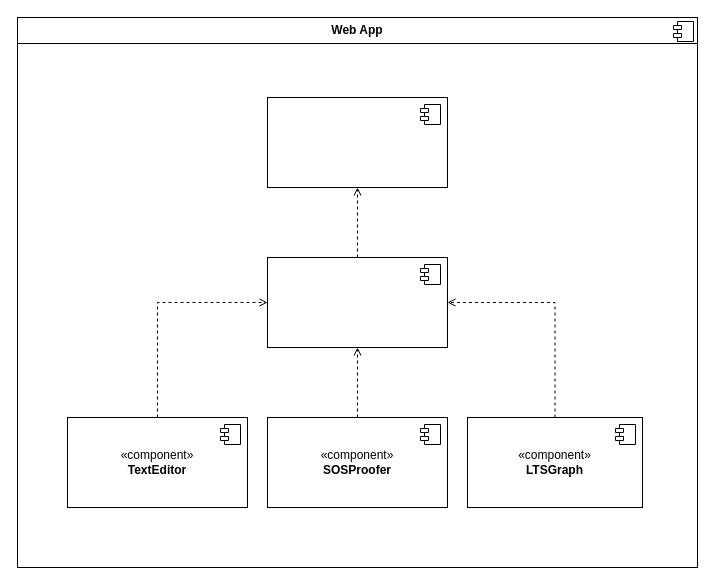
The diagram is 715 pixels wide and 585 high, and some of its shapes have lost their labels. The centre of each missing label's shape, as x and y in pixels:
"«component » ProgramsContext" belongs at [357,142].
"«component » ProgramSelector" belongs at [357,302].
